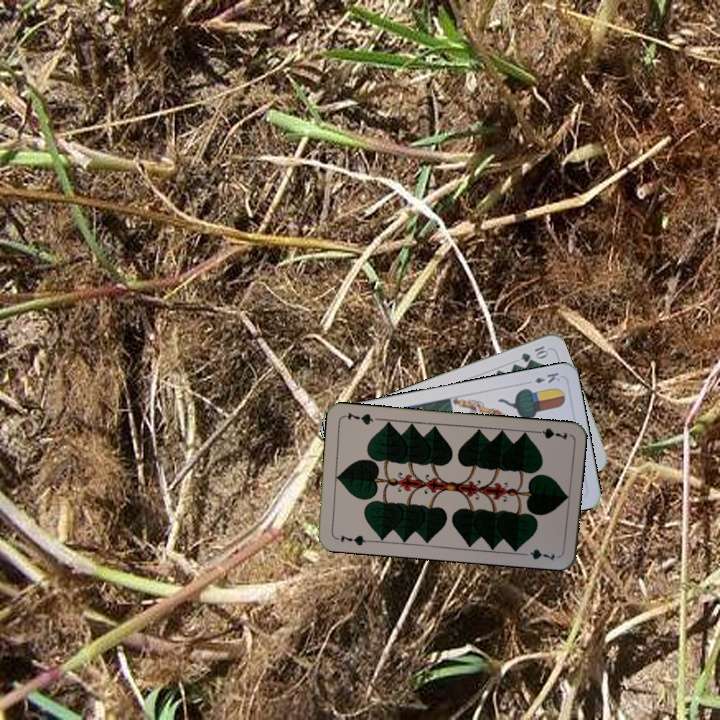EK: (530, 368, 563, 386)
G10: (517, 342, 551, 365)
G7: (530, 424, 570, 443), (332, 531, 372, 548)
